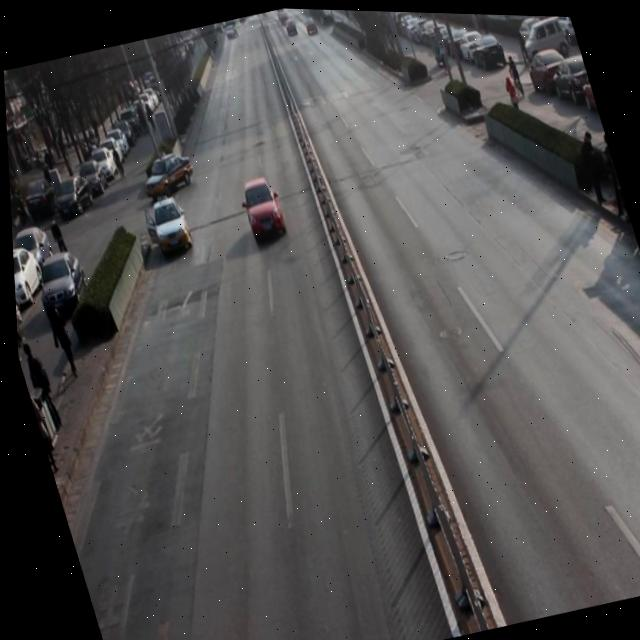car: (233, 170, 290, 243), (137, 140, 197, 201), (142, 192, 193, 256)
